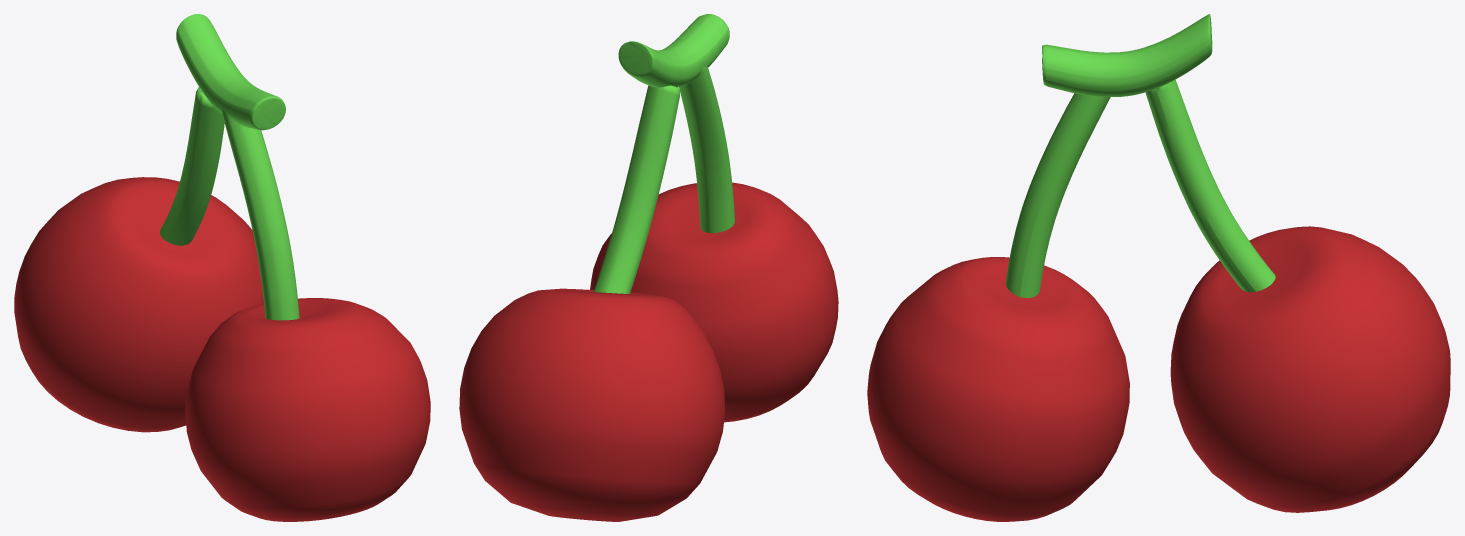
File: yingtao.fbx
3 views of the same model, side by side, from view 1: azimuth 30°, elevation 25°; view 2: azimuth 150°, elevation 25°; view 3: azimuth 270°, elevation 25° (orthographic). The views are drawn at different scales.
Parts seen in each view (by area): view 1: pSphere13, pSphere14, pasted__pasted__pCylinder3, pCylinder3, pasted__pCylinder3; view 2: pSphere14, pSphere13, pasted__pCylinder3, pasted__pasted__pCylinder3, pCylinder3; view 3: pSphere14, pSphere13, pasted__pCylinder3, pCylinder3, pasted__pasted__pCylinder3.
Boxes of the visible parts, left/top/right/bottom form: pSphere13: left=185, top=298, right=430, bottom=521; pSphere14: left=14, top=177, right=263, bottom=432; pasted__pasted__pCylinder3: left=221, top=109, right=299, bottom=320; pCylinder3: left=176, top=14, right=285, bottom=130; pasted__pCylinder3: left=160, top=87, right=224, bottom=245; pSphere14: left=459, top=288, right=725, bottom=521; pSphere13: left=590, top=182, right=838, bottom=422; pasted__pCylinder3: left=593, top=85, right=679, bottom=293; pasted__pasted__pCylinder3: left=679, top=66, right=734, bottom=233; pCylinder3: left=618, top=14, right=729, bottom=87; pSphere14: left=1170, top=226, right=1450, bottom=512; pSphere13: left=867, top=257, right=1129, bottom=521; pasted__pCylinder3: left=1145, top=79, right=1275, bottom=292; pCylinder3: left=1042, top=14, right=1212, bottom=96; pasted__pasted__pCylinder3: left=1005, top=93, right=1110, bottom=297.
Bounding box in the file's own units: 0.9535 × 1.79 × 1.62.
